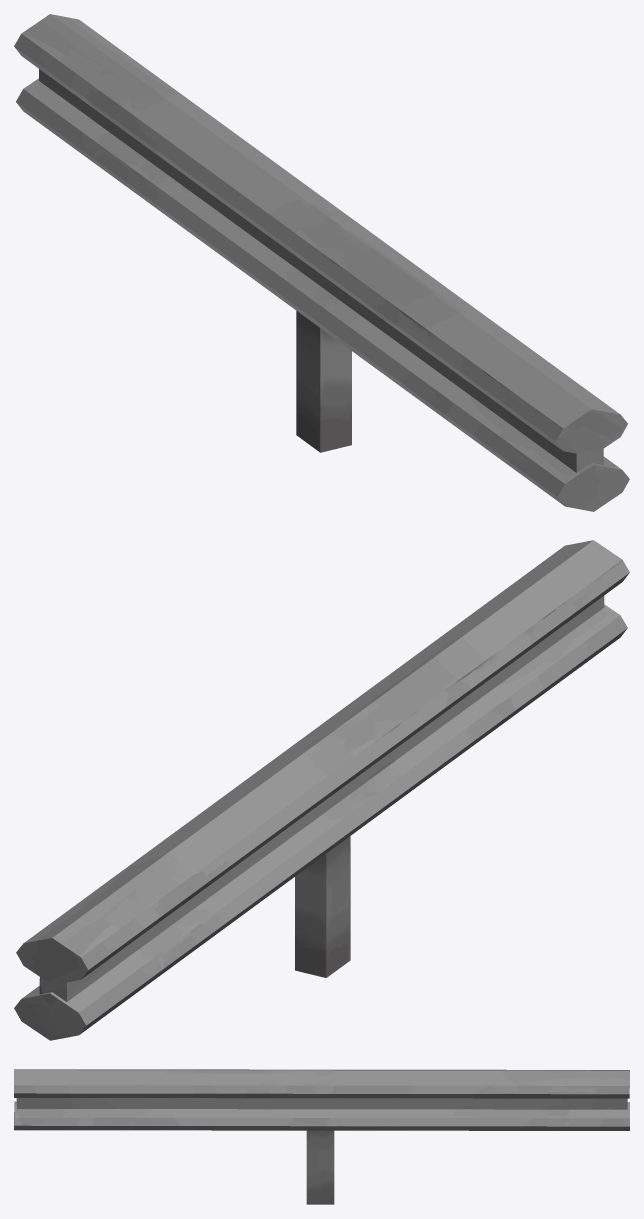
Rendered from guard-reio.fbx.
3 views of the same model, one above another, from view 1: azimuth 30°, elevation 25°; view 2: azimuth 150°, elevation 25°; view 3: azimuth 270°, elevation 25° (orthographic). The views are drawn at different scales.
Visible parts, largest first — view 1: Cube; view 2: Cube; view 3: Cube.
Part boxes in pixels (x1,y1,x2,y2): Cube: (14, 14, 629, 511); Cube: (14, 540, 629, 1040); Cube: (14, 1069, 629, 1204).
Size of the model in its own units: 23.2 by 68.15 by 293.
